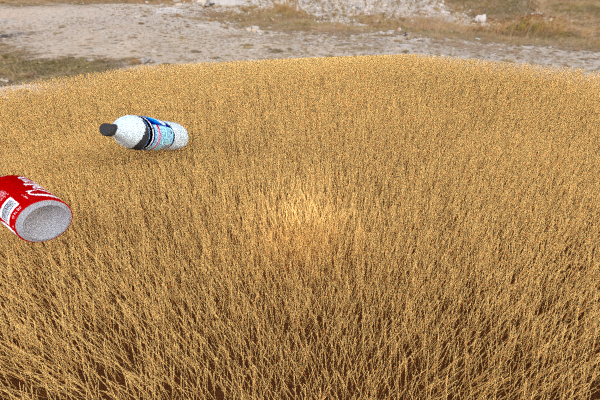Plastic Bottle: (0, 174, 72, 242), (99, 115, 188, 150)
